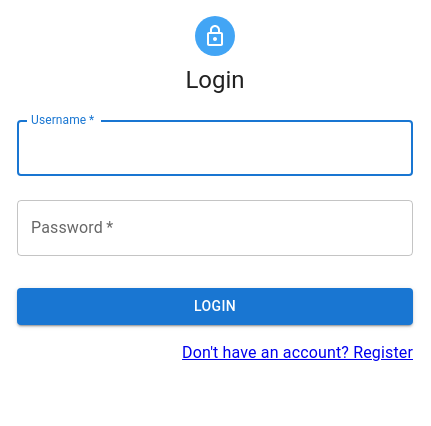
Test case: Login Component › displays error on failed login
Type "wrongUsername" into the field labelled "Username *".
click(215, 148); type("wrongUsername")  # box [17, 120, 413, 176]
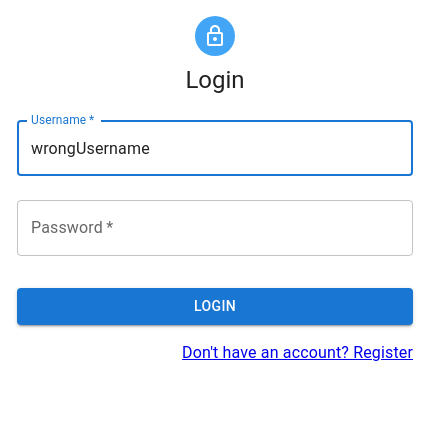
Type "wrongPassword" into the password field labelled "Password *".
click(215, 228); type("wrongPassword")  # box [17, 200, 413, 256]
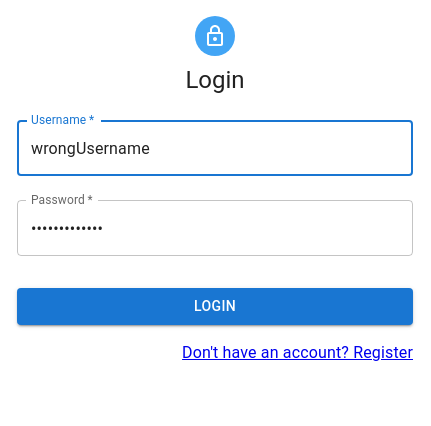
Click the button "Login".
click(215, 306)  # box [17, 288, 413, 324]
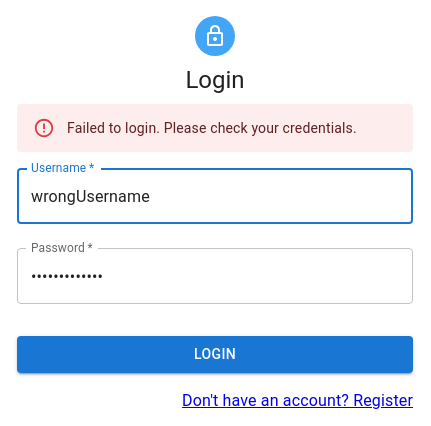
Result: the text "Failed to login. Please check your credentials." is shown at [67, 120, 357, 136]
